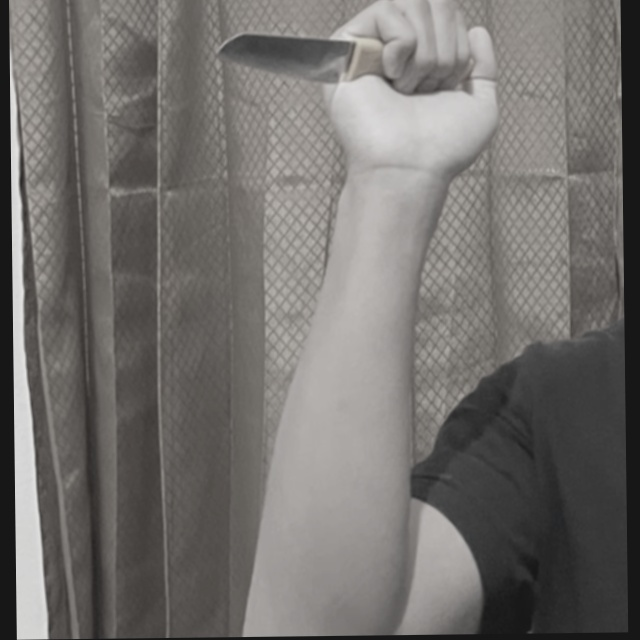Sharp-Object: (211, 26, 476, 90)
